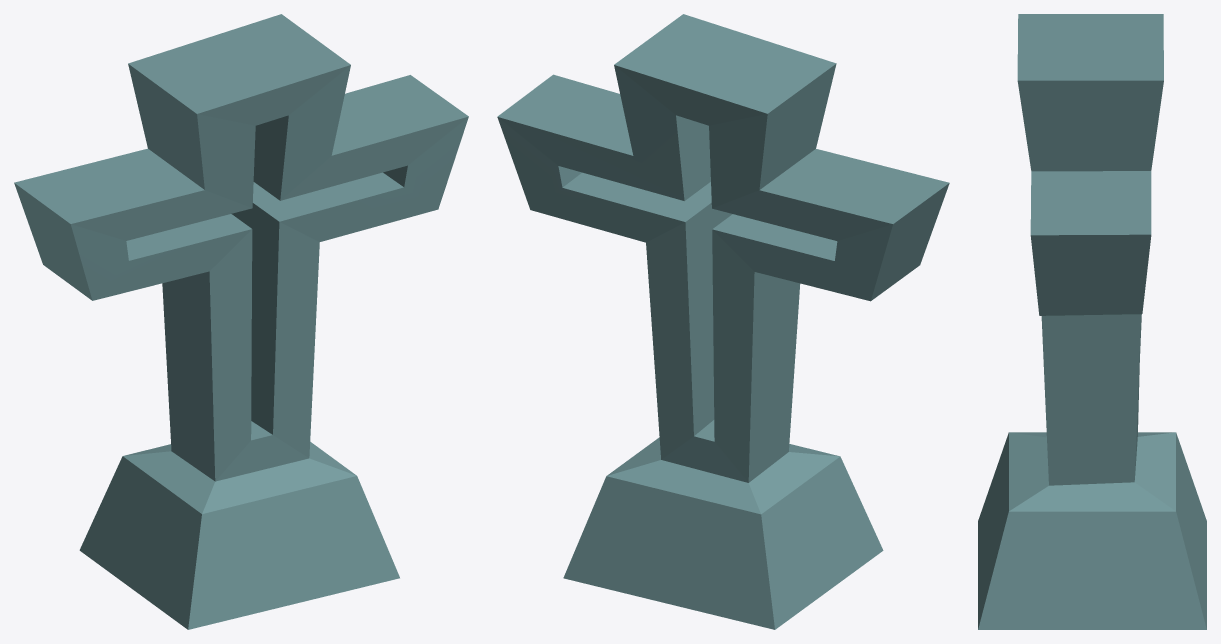
Rendered from Cementery_Tombstone4.fbx.
3 views of the same model, side by side, from view 1: azimuth 30°, elevation 25°; view 2: azimuth 150°, elevation 25°; view 3: azimuth 270°, elevation 25° (orthographic). The views are drawn at different scales.
Visible parts, largest first — view 1: Cross_016; view 2: Cross_016; view 3: Cross_016.
Part boxes in pixels (bbox=[...]): Cross_016: bbox=[14, 14, 468, 629]; Cross_016: bbox=[497, 14, 949, 629]; Cross_016: bbox=[978, 14, 1206, 629].
Size of the model in its own units: 50.65 by 61.69 by 23.97.
